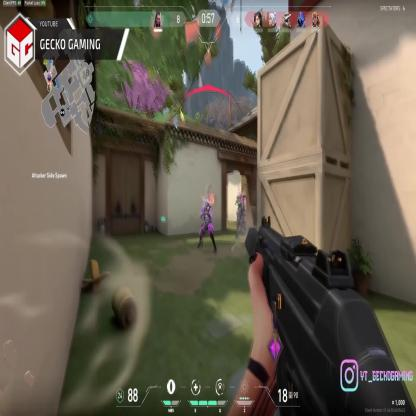enemy: (198, 196, 216, 252), (235, 189, 244, 238)
enemy_head: (205, 199, 209, 208), (238, 189, 241, 198)
